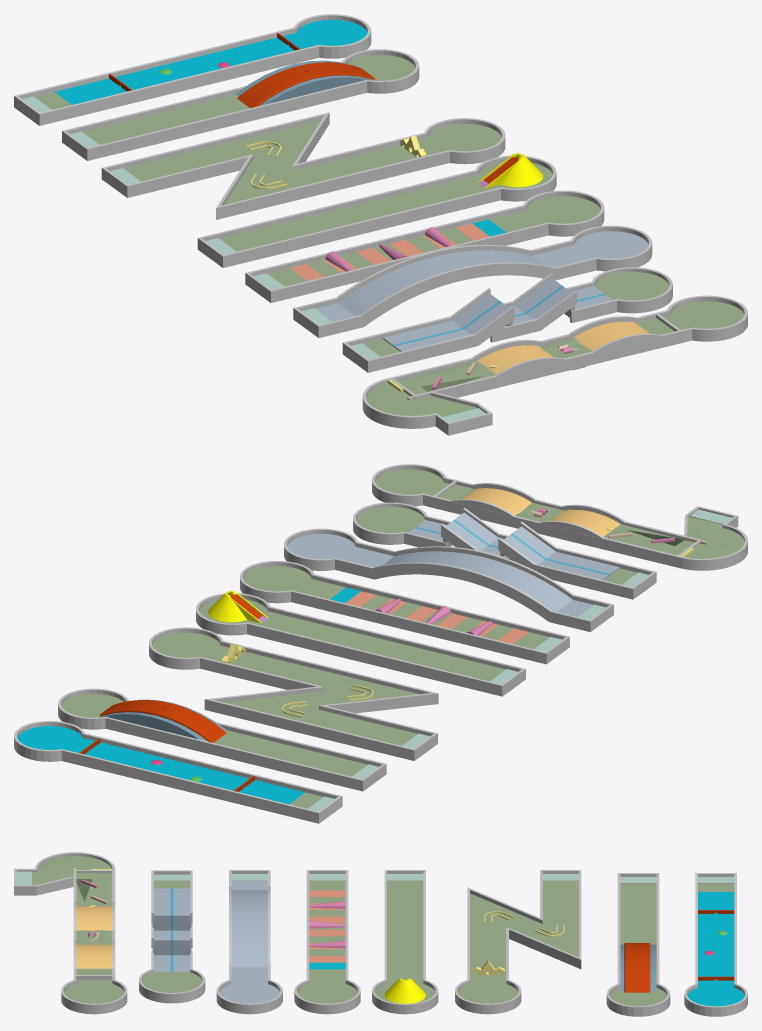
File: mini_golf_models1-9.glb
3 renders of one model, top to bottom at view 1: azimuth 30°, elevation 25°; view 2: azimuth 150°, elevation 25°; view 3: azimuth 270°, elevation 25°, orthographic. The views are drawn at different scales.
Parts seen in each view (by area): view 1: MiniGolf_V7_25, MiniGolf_V9_36, MiniGolf_V6_6, MiniGolf_V1_4, SW___007, MiniGolf_V8_17, MiniGolf_V9_16, MiniGolf_V6_13, MiniGolf_V8_35, MiniGolf_V4_3, MiniGolf_V7_6, MiniGolf_V4_6 (+30 smaller); view 2: MiniGolf_V7_25, MiniGolf_V9_36, MiniGolf_V6_6, MiniGolf_V1_4, SW___007, MiniGolf_V9_5, MiniGolf_V8_6, MiniGolf_V5_23, MiniGolf_V6_12, MiniGolf_V8_35, MiniGolf_V4_3, MiniGolf_V1_16 (+30 smaller); view 3: MiniGolf_V7_25, MiniGolf_V9_36, MiniGolf_V6_6, MiniGolf_V1_4, SW___007, MiniGolf_V4_3, MiniGolf_V8_35, MiniGolf_V4_2, MiniGolf_V5_13, MiniGolf_V8_38, TR___002, SW___007_3 (+38 smaller).
Part boxes in pixels (box(x1,y1,x2,y2)): MiniGolf_V7_25: box(123, 120, 501, 204); MiniGolf_V9_36: box(55, 20, 367, 104); MiniGolf_V6_6: box(242, 162, 552, 245); MiniGolf_V1_4: box(366, 317, 674, 416); SW___007: box(382, 278, 612, 351); MiniGolf_V8_17: box(87, 80, 367, 160); MiniGolf_V9_16: box(39, 45, 319, 125); MiniGolf_V6_13: box(223, 187, 500, 267); MiniGolf_V8_35: box(102, 55, 415, 139); MiniGolf_V4_3: box(338, 250, 544, 315); MiniGolf_V7_6: box(216, 150, 449, 219); MiniGolf_V4_6: box(360, 262, 555, 326); MiniGolf_V7_25: box(152, 632, 419, 745); MiniGolf_V9_36: box(17, 726, 304, 804); MiniGolf_V6_6: box(199, 599, 484, 676); MiniGolf_V1_4: box(439, 484, 744, 558); SW___007: box(408, 512, 619, 579); MiniGolf_V9_5: box(61, 749, 318, 823); MiniGolf_V8_6: box(105, 717, 362, 791); MiniGolf_V5_23: box(291, 590, 546, 664); MiniGolf_V6_12: box(247, 622, 502, 696); MiniGolf_V8_35: box(61, 694, 349, 771); MiniGolf_V4_3: box(382, 551, 572, 611); MiniGolf_V1_16: box(432, 496, 680, 567); MiniGolf_V7_25: box(458, 881, 578, 1003); MiniGolf_V9_36: box(687, 892, 744, 1006); MiniGolf_V6_6: box(375, 890, 435, 1003); MiniGolf_V1_4: box(32, 856, 112, 974); SW___007: box(152, 888, 191, 971); MiniGolf_V4_3: box(231, 890, 267, 967); MiniGolf_V8_35: box(609, 892, 667, 1006); MiniGolf_V4_2: box(219, 967, 279, 1003); MiniGolf_V5_13: box(297, 969, 357, 1003); MiniGolf_V8_38: box(624, 943, 650, 992); TR___002: box(64, 979, 124, 1003); SW___007_3: box(141, 972, 202, 992).
Size of the model in its own units: 14.15 by 1.23 by 28.33.
